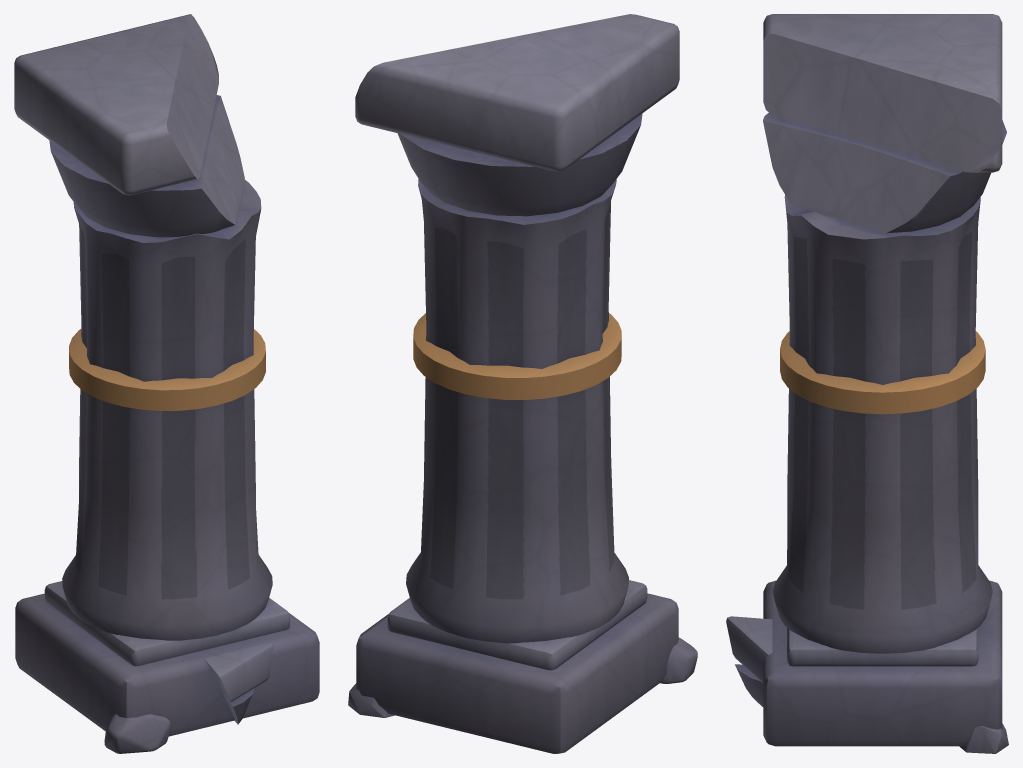
File: EF_P11_BrokenPillar.fbx
3 views of the same model, side by side, from view 1: azimuth 30°, elevation 25°; view 2: azimuth 150°, elevation 25°; view 3: azimuth 270°, elevation 25° (orthographic). The views are drawn at different scales.
Parts seen in each view (by area): view 1: Shaft, Capital, Plinth, Chunk_01, Chunk_02; view 2: Shaft, Capital, Plinth, Chunk_02, Chunk_03; view 3: Shaft, Capital, Plinth, Chunk_01, Chunk_03.
Boxes of the visible parts, <box> form: Shaft: <box>62,180,272,640</box>; Capital: <box>14,14,244,237</box>; Plinth: <box>15,581,319,736</box>; Chunk_01: <box>204,642,273,724</box>; Chunk_02: <box>104,714,170,753</box>; Shaft: <box>406,179,628,643</box>; Capital: <box>355,14,679,216</box>; Plinth: <box>356,580,678,753</box>; Chunk_02: <box>660,637,697,683</box>; Chunk_03: <box>348,683,394,717</box>; Shaft: <box>773,195,992,653</box>; Capital: <box>763,14,1006,233</box>; Plinth: <box>763,580,1002,746</box>; Chunk_01: <box>726,616,772,706</box>; Chunk_03: <box>959,723,1008,753</box>.
Bounding box in the file's own units: 1.1 × 2.95 × 1.18.
